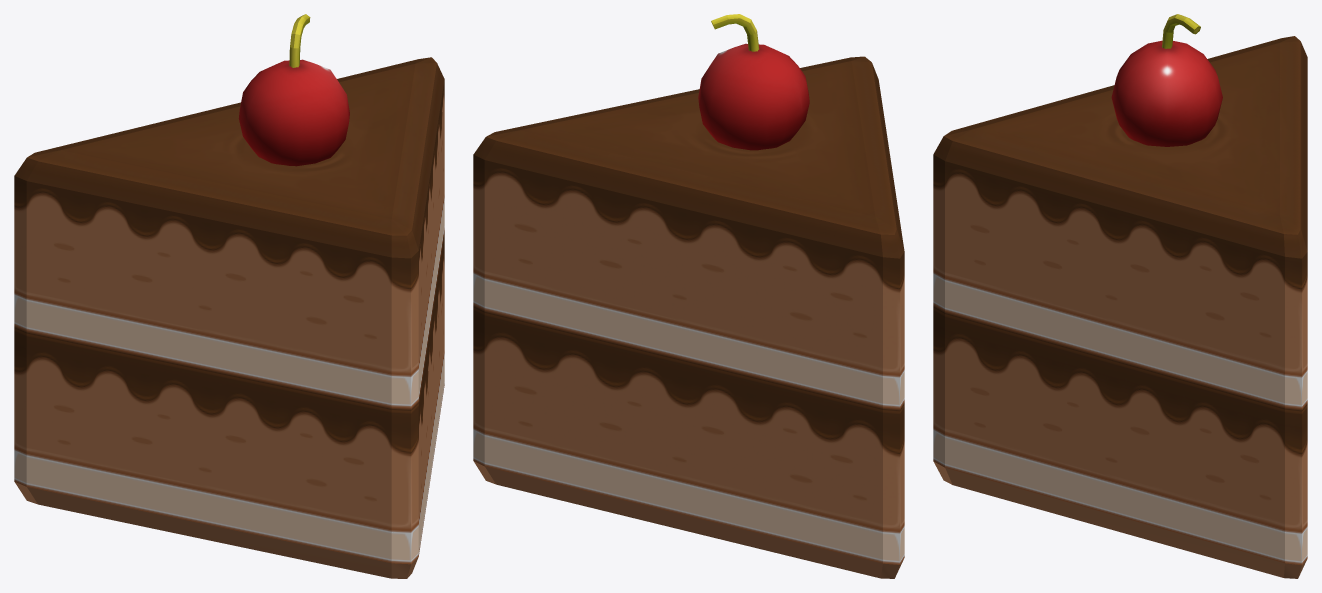
Rendered from ENV1810004.fbx.
The picture shows the model from 3 angles, left to right: view 1: azimuth 30°, elevation 25°; view 2: azimuth 150°, elevation 25°; view 3: azimuth 270°, elevation 25°; orthographic projection.
Parts seen in each view (by area): view 1: smENV1810004; view 2: smENV1810004; view 3: smENV1810004.
Part boxes in pixels (box(x1,y1,x2,y2)): smENV1810004: box(14, 14, 444, 578); smENV1810004: box(473, 14, 904, 578); smENV1810004: box(933, 14, 1307, 578).
Size of the model in its own units: 9.72 by 10.38 by 7.39.
Materials: 1 (1 with a texture image).
